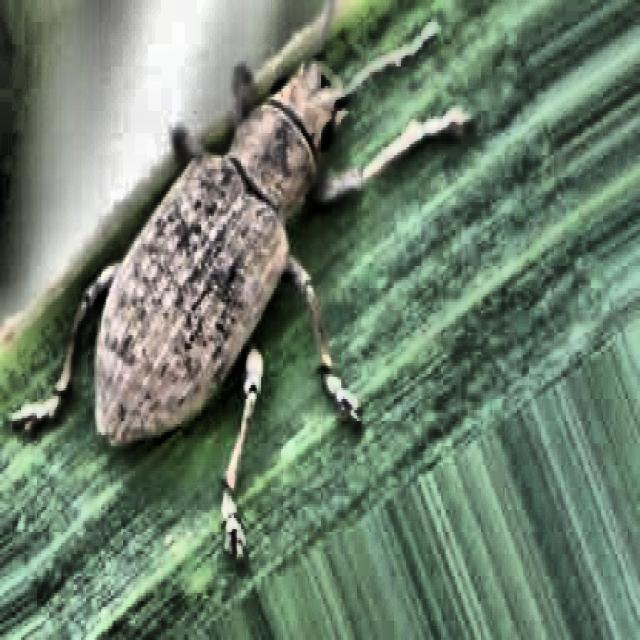Stink bug: (72, 0, 422, 471)
